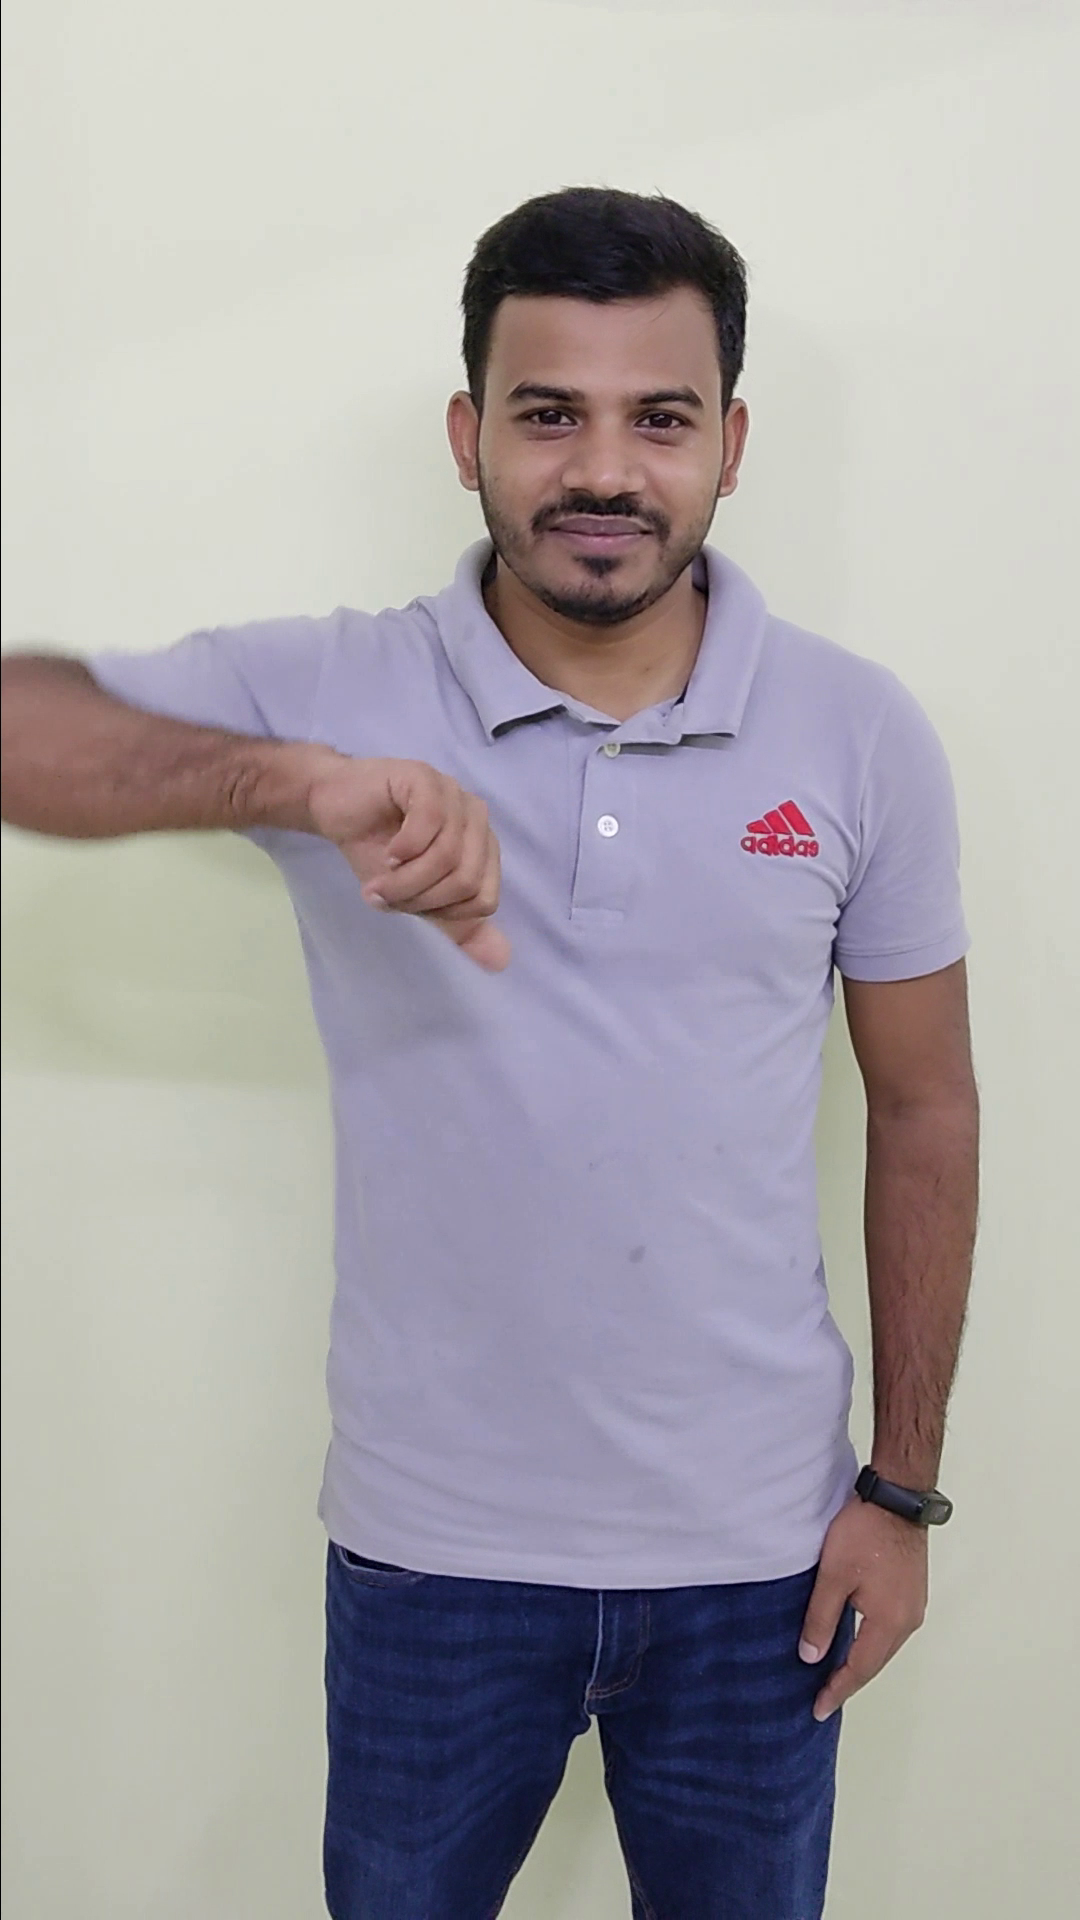Dislike: (294, 721, 527, 990)
None: (785, 1443, 963, 1731)
